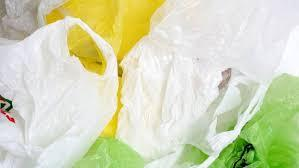Plastic bag: (4, 2, 299, 168)
